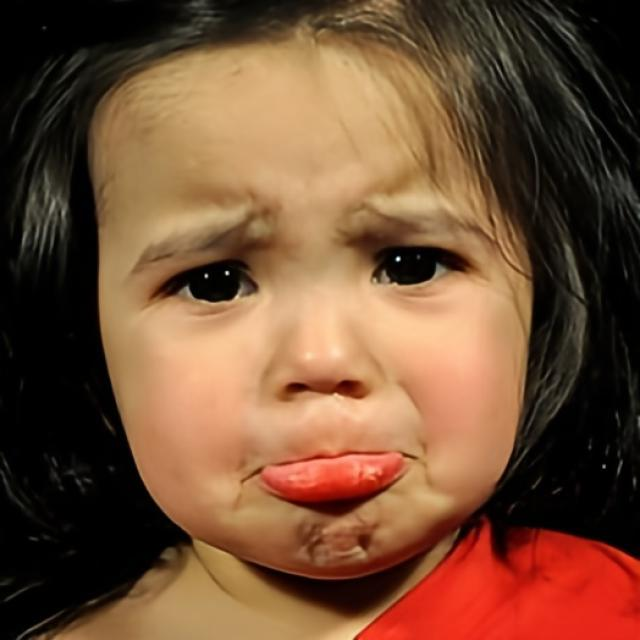sad: (87, 35, 539, 582)
